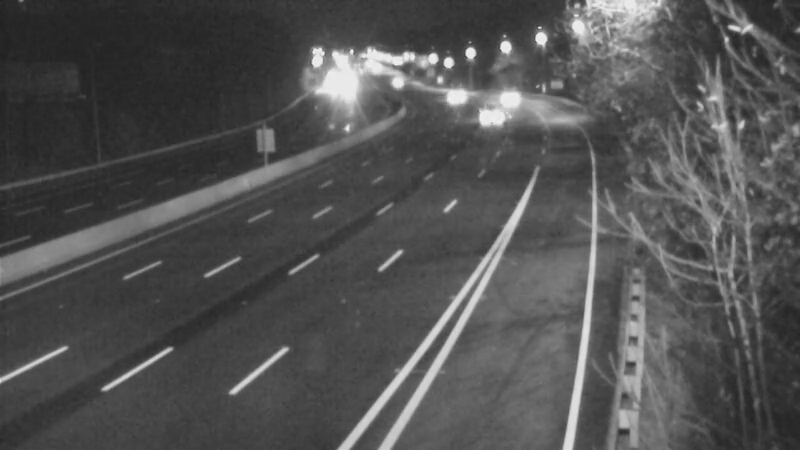vehicle: (365, 52, 415, 102), (483, 71, 533, 121), (423, 68, 473, 118), (469, 82, 519, 132)
